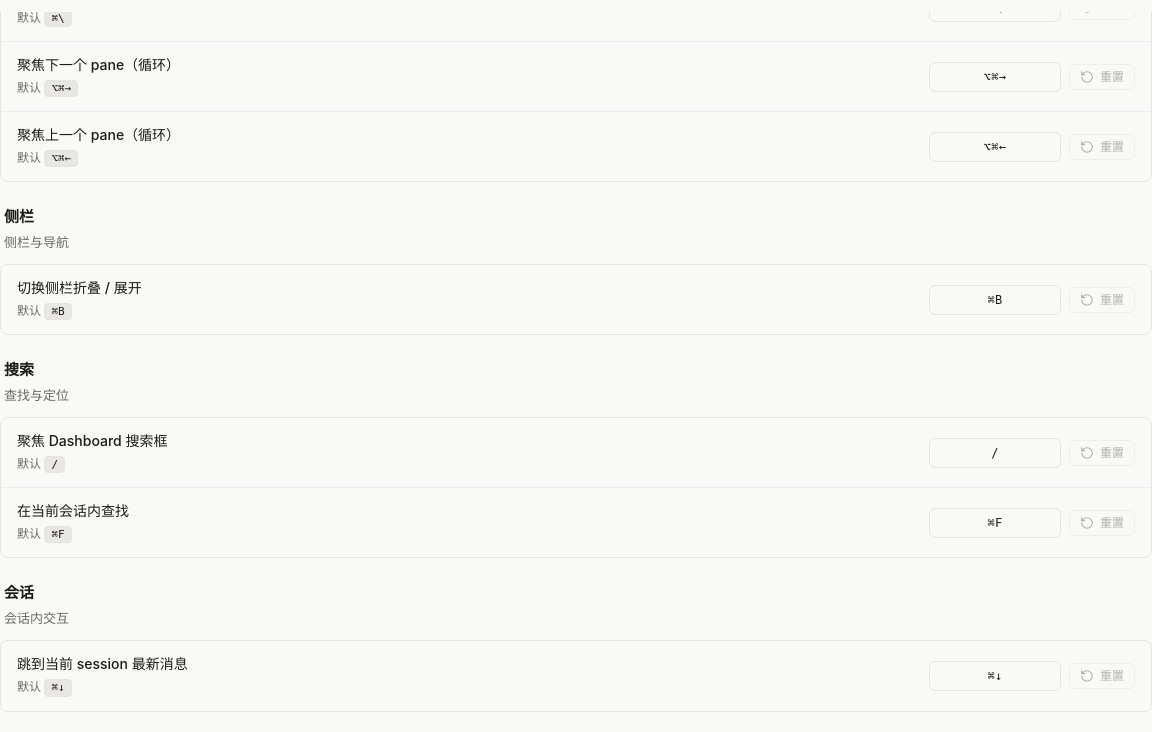
it: KeyboardShortcutsPanel › 丢弃：清空 pending overlay + pending bar 消失
The image size is (1152, 732).
(page scrolled)
Focus the button "⌘B" at (995, 300), box x1=929 y1=285 x2=1061 y2=315
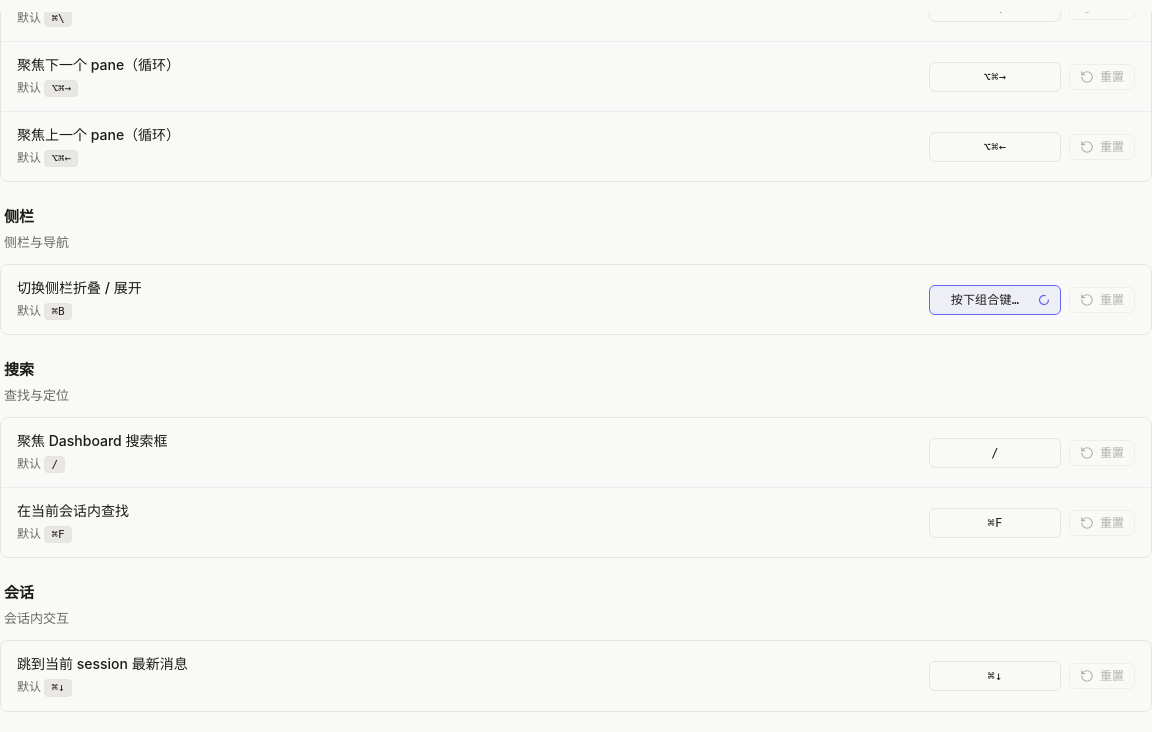
Press x in the button "按下组合键…", box x1=929 y1=285 x2=1061 y2=315
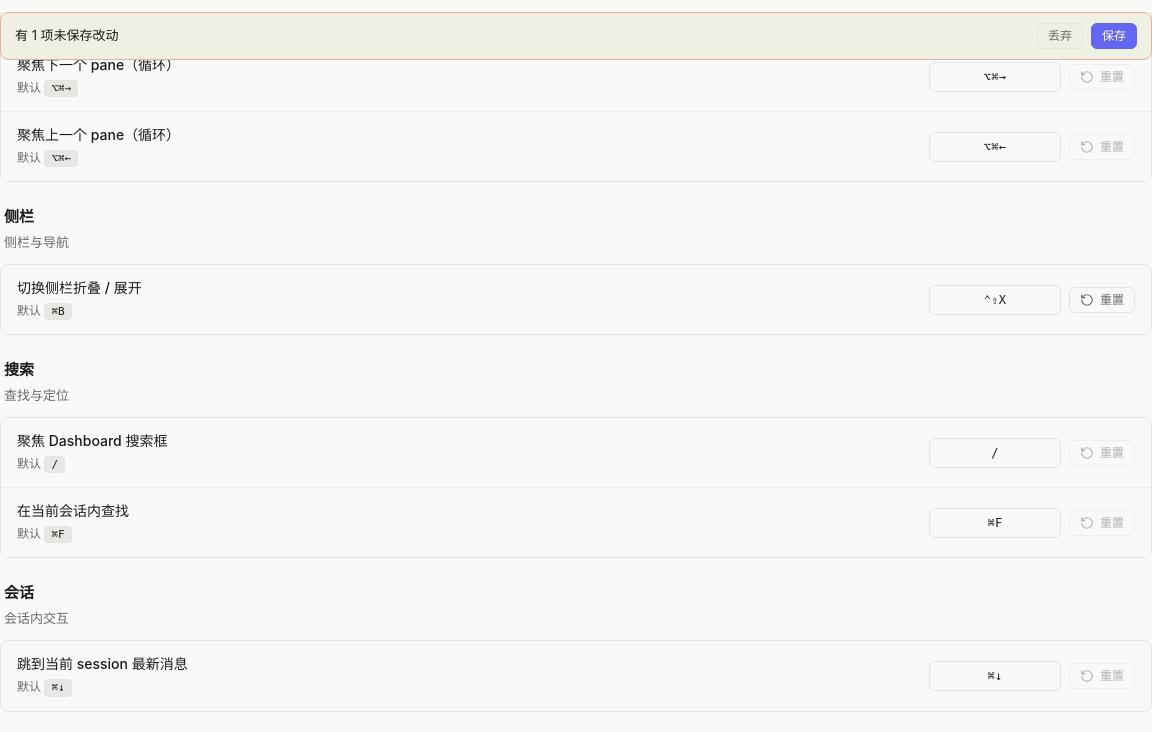
Check: the message "有 1 项未保存改动 丢弃 保存" is shown, box x1=0 y1=12 x2=1151 y2=60
Check: the button "丢弃" is shown
Click the button "丢弃".
click(1060, 36)  # box x1=1037 y1=23 x2=1083 y2=49
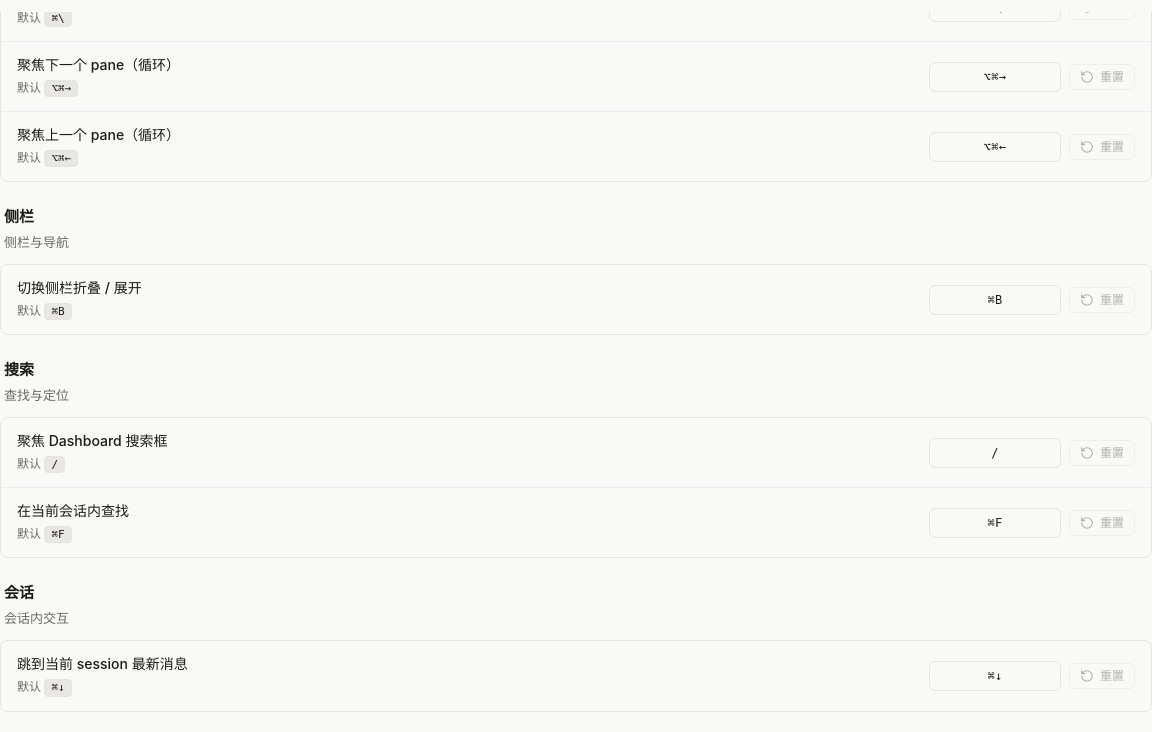
Check: the message "有 1 项未保存改动 丢弃 保存" is gone
